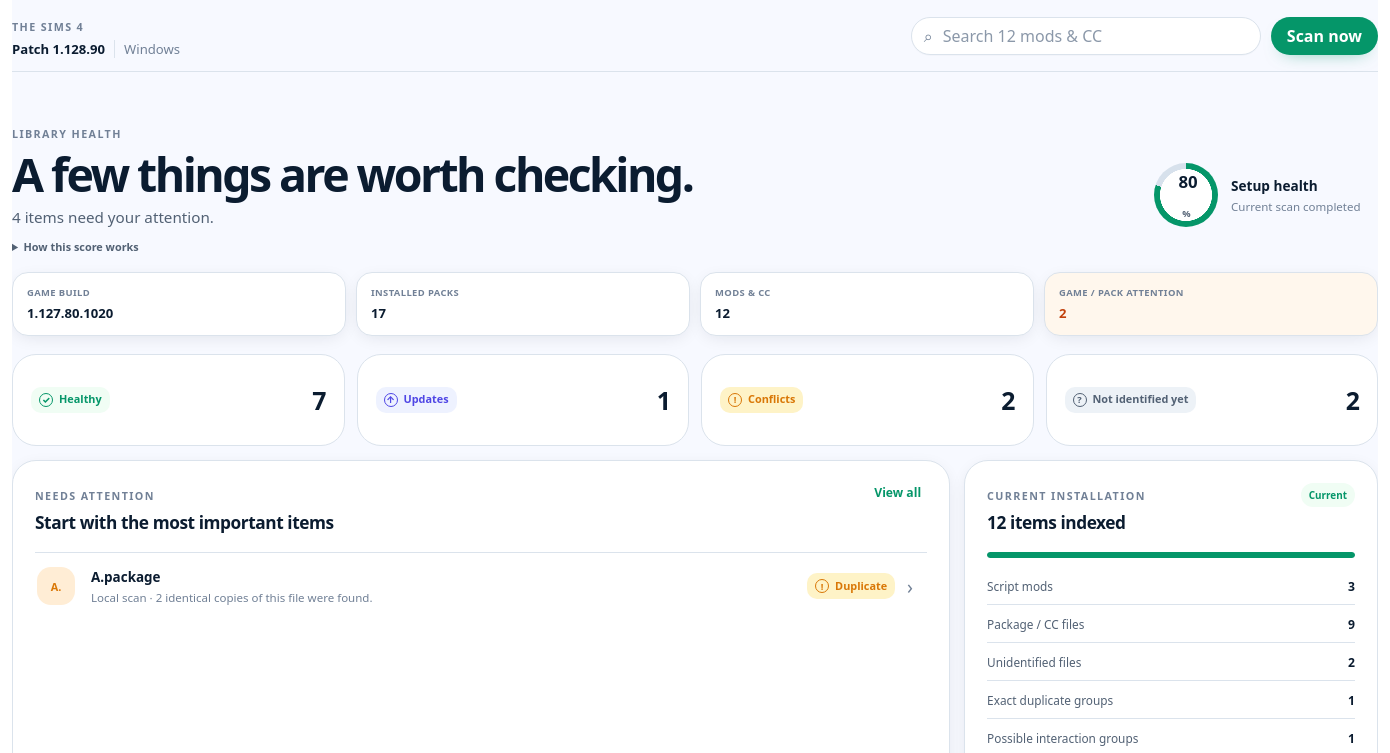
Test: OverviewPage › renders current scan and health-engine counts instead of design-target constants
expect the heading "A few things are worth checking." is shown: met, box [12,151,692,199]
expect the element named "Overall health 80 percent" is shown: met, box [1154,163,1378,227]
Step 1. Click the heading "How this score works" → (75, 246), box [12,239,139,254]
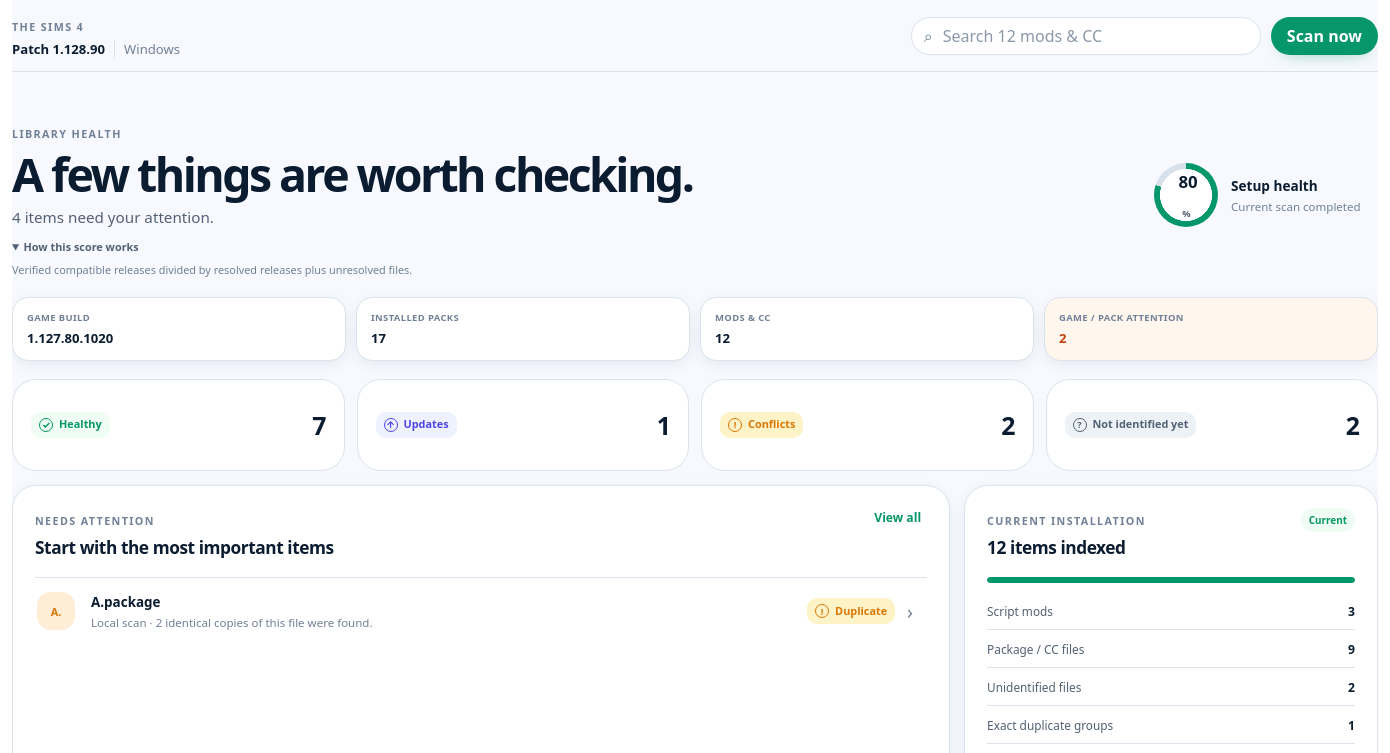
expect the text "Verified compatible releases divided by resolved releases plus unresolved files." is shown: met, box [12,262,412,277]
